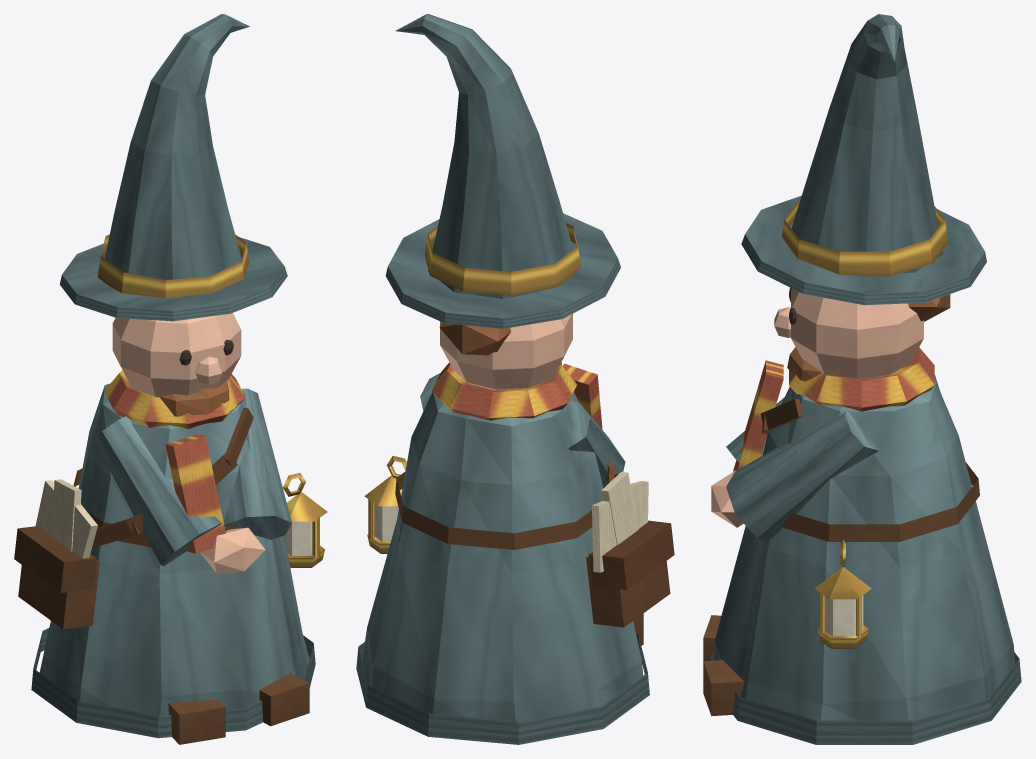
Rendered from barnaby.glb.
3 renders of one model, left to right at view 1: azimuth 30°, elevation 25°; view 2: azimuth 150°, elevation 25°; view 3: azimuth 270°, elevation 25°, orthographic. The views are drawn at different scales.
Visible parts, largest first — view 1: barnaby; view 2: barnaby; view 3: barnaby.
Part boxes in pixels (bbox=[...]): barnaby: bbox=[14, 14, 327, 744]; barnaby: bbox=[356, 14, 674, 744]; barnaby: bbox=[703, 14, 1021, 744].
Bounding box in the file's own units: 0.4824 × 1.06 × 0.444.
Materials: 1 (1 with a texture image).
